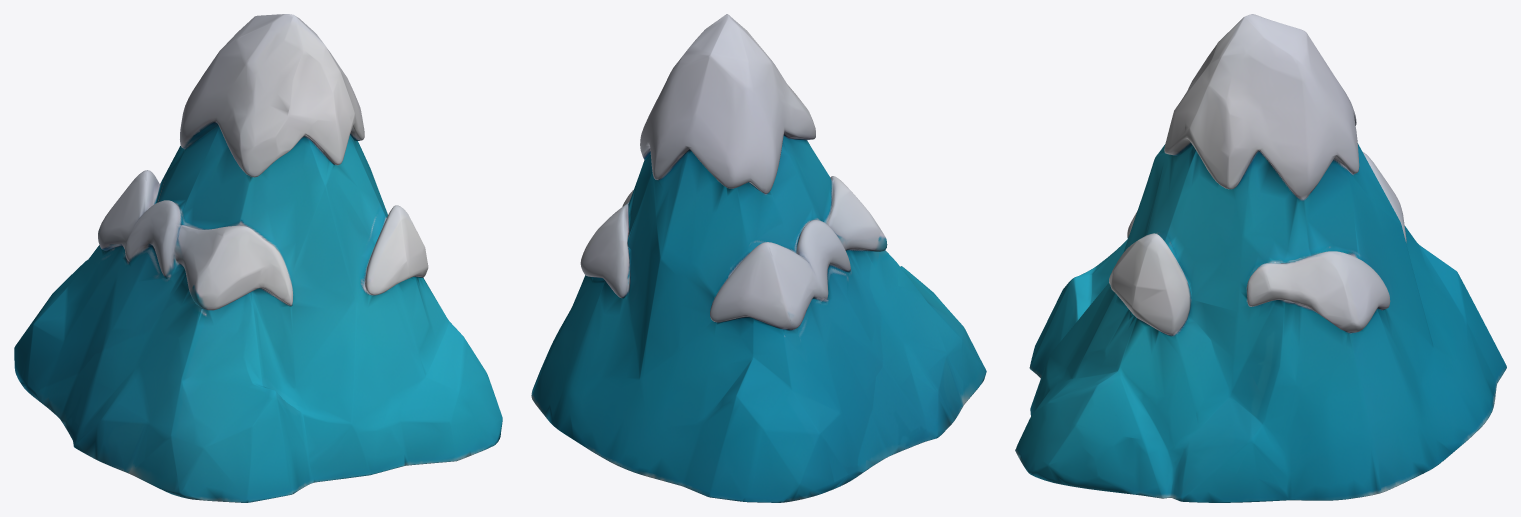
The model's file is bigRock1.fbx.
3 views of the same model, side by side, from view 1: azimuth 30°, elevation 25°; view 2: azimuth 150°, elevation 25°; view 3: azimuth 270°, elevation 25° (orthographic). The views are drawn at different scales.
Visible parts, largest first — view 1: node_0; view 2: node_0; view 3: node_0.
Part boxes in pixels (box(x1,y1,x2,y2)): node_0: box(14, 14, 502, 502); node_0: box(531, 14, 986, 502); node_0: box(1015, 14, 1506, 502).
Size of the model in its own units: 0.4846 by 0.4724 by 0.5185.
Materials: 1 (1 with a texture image).
